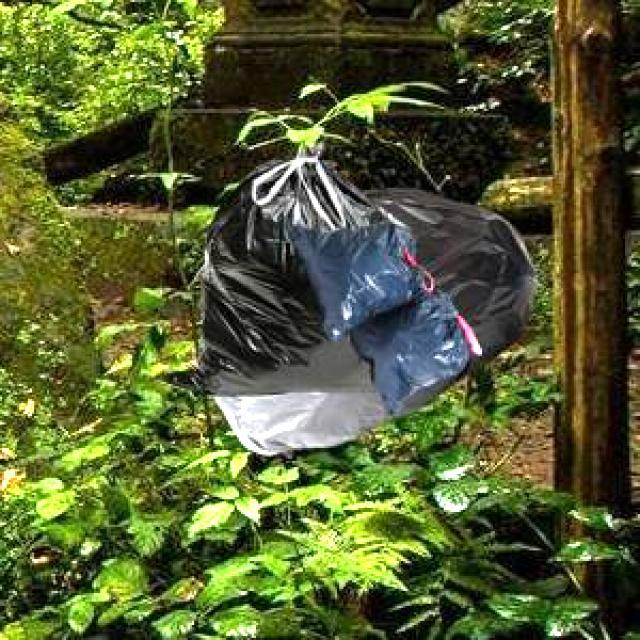Garbage_Bag: (210, 140, 535, 452), (161, 154, 383, 393), (284, 218, 478, 410)
